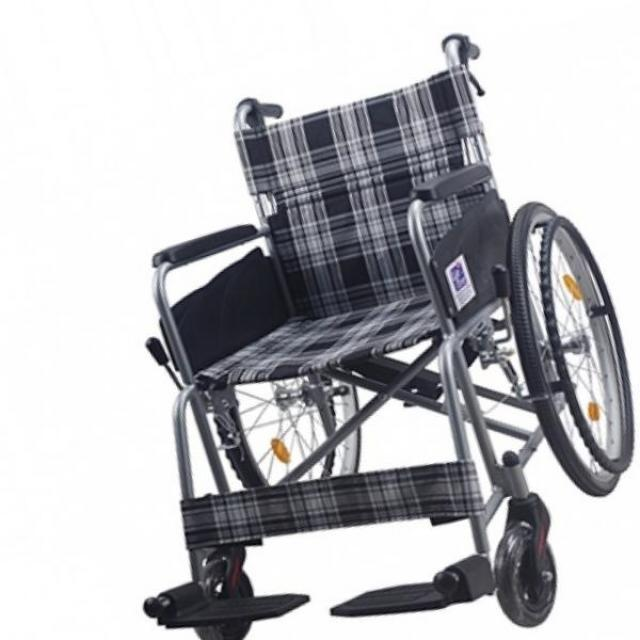wheelchair: (106, 19, 640, 640)
